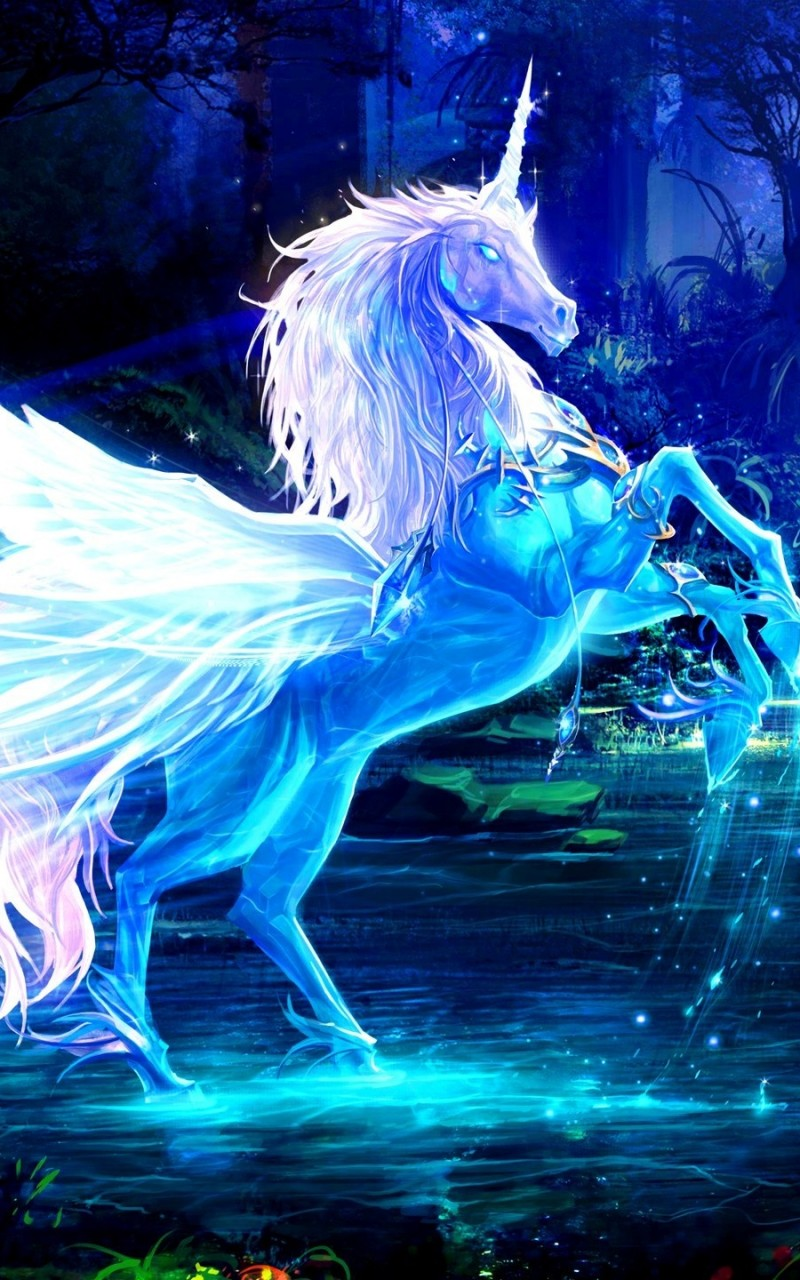background: (17, 49, 800, 1108)
